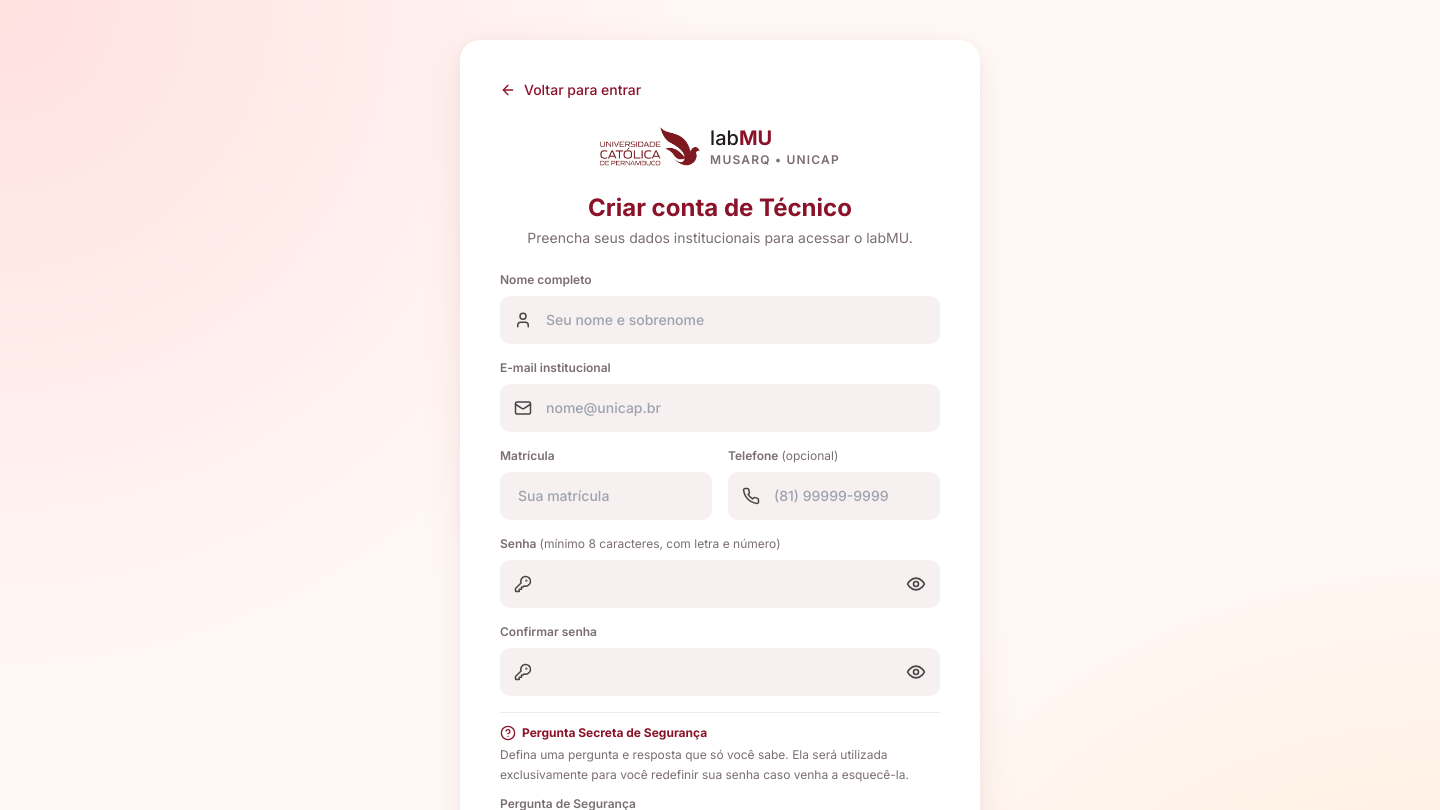
Test: RegisterPage: validação › exige letra e número na senha
In the field labelled "Nome completo": (720, 320) [500, 296, 940, 344], type "Maria Técnica"
In the field labelled "E-mail institucional": (720, 408) [500, 384, 940, 432], type "maria.tecnica@unicap.br"
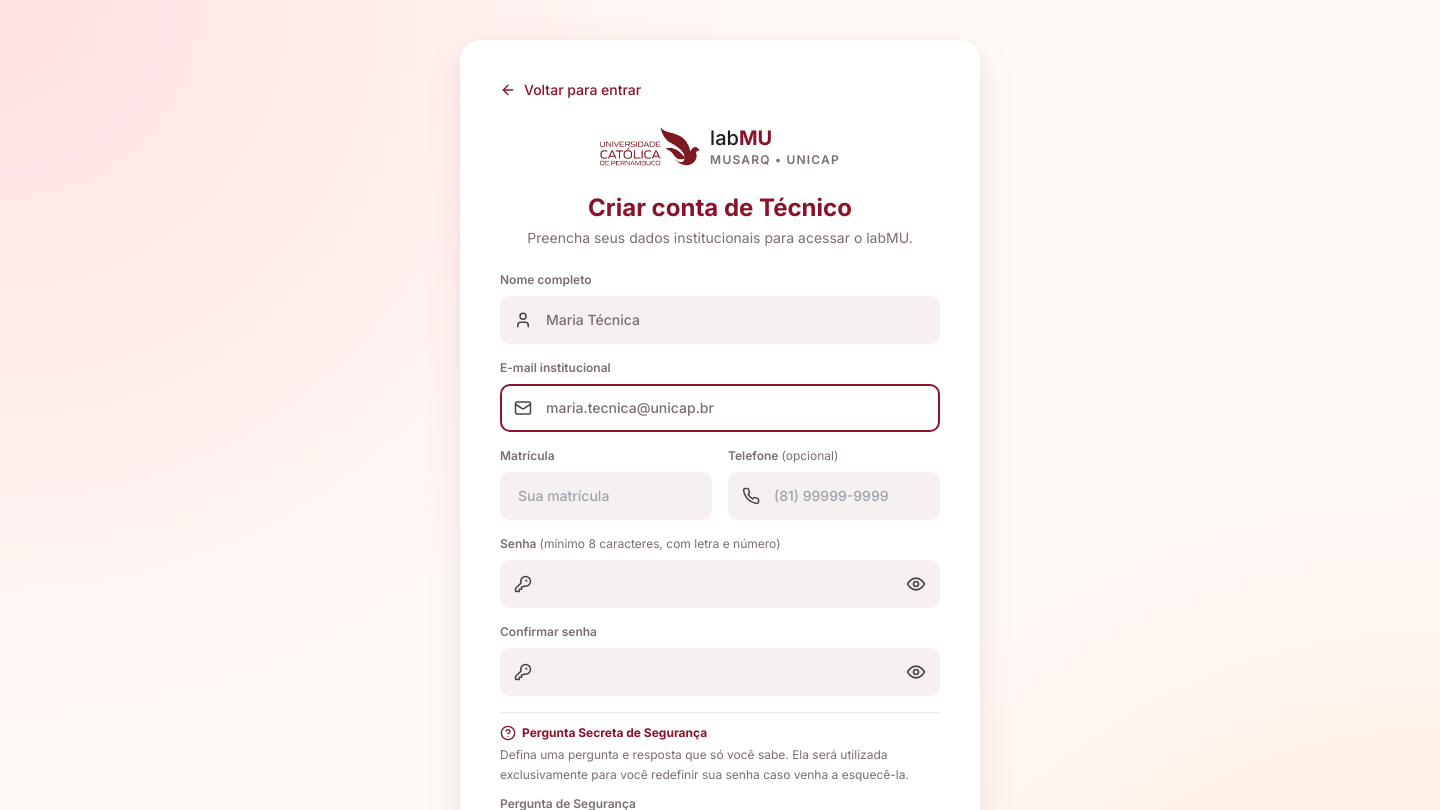
In the field labelled "Matrícula": (606, 496) [500, 472, 712, 520], type "2019123"
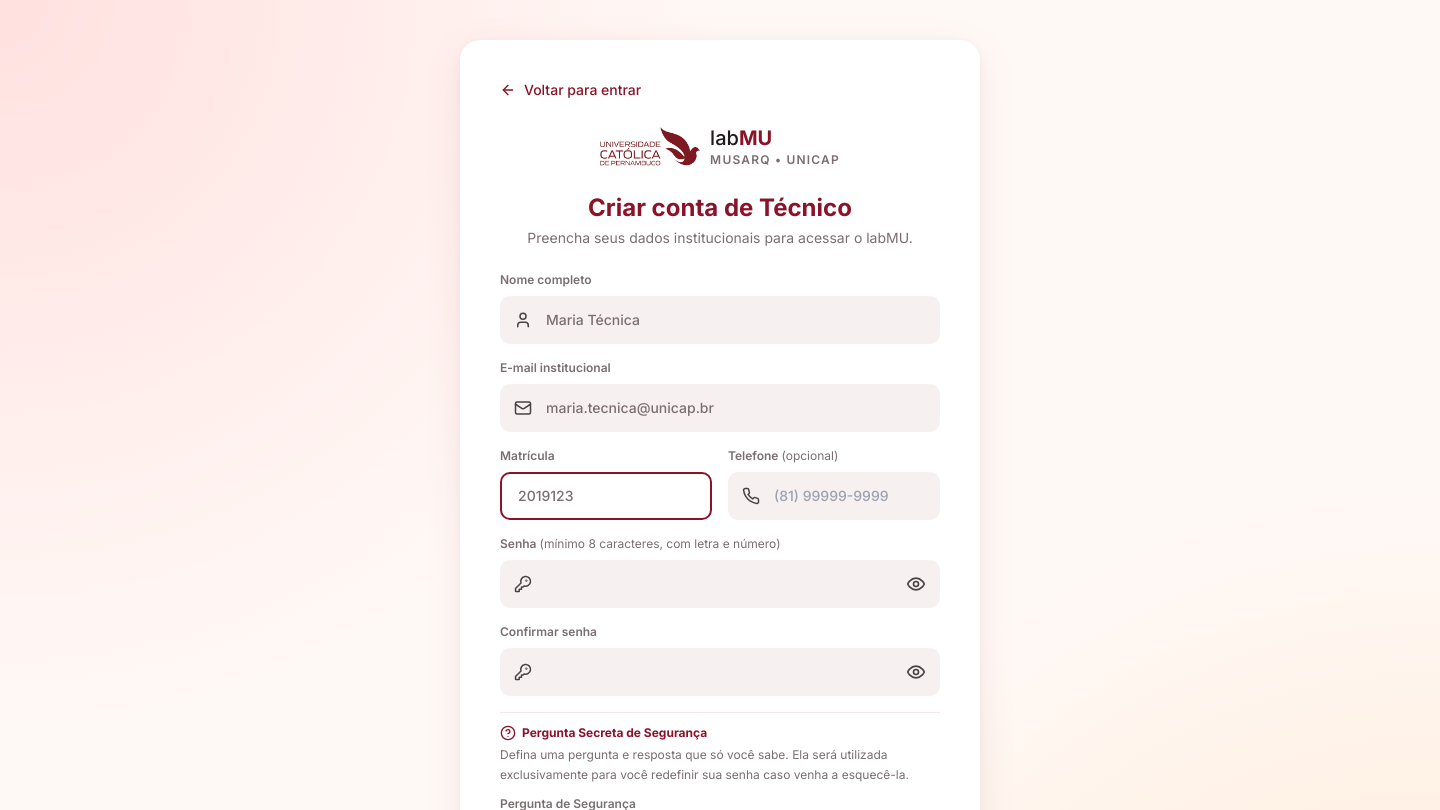
In the password field labelled "Senha (mínimo 8 caracteres, com letra e número)": (720, 584) [500, 560, 940, 608], type "somentetexto"
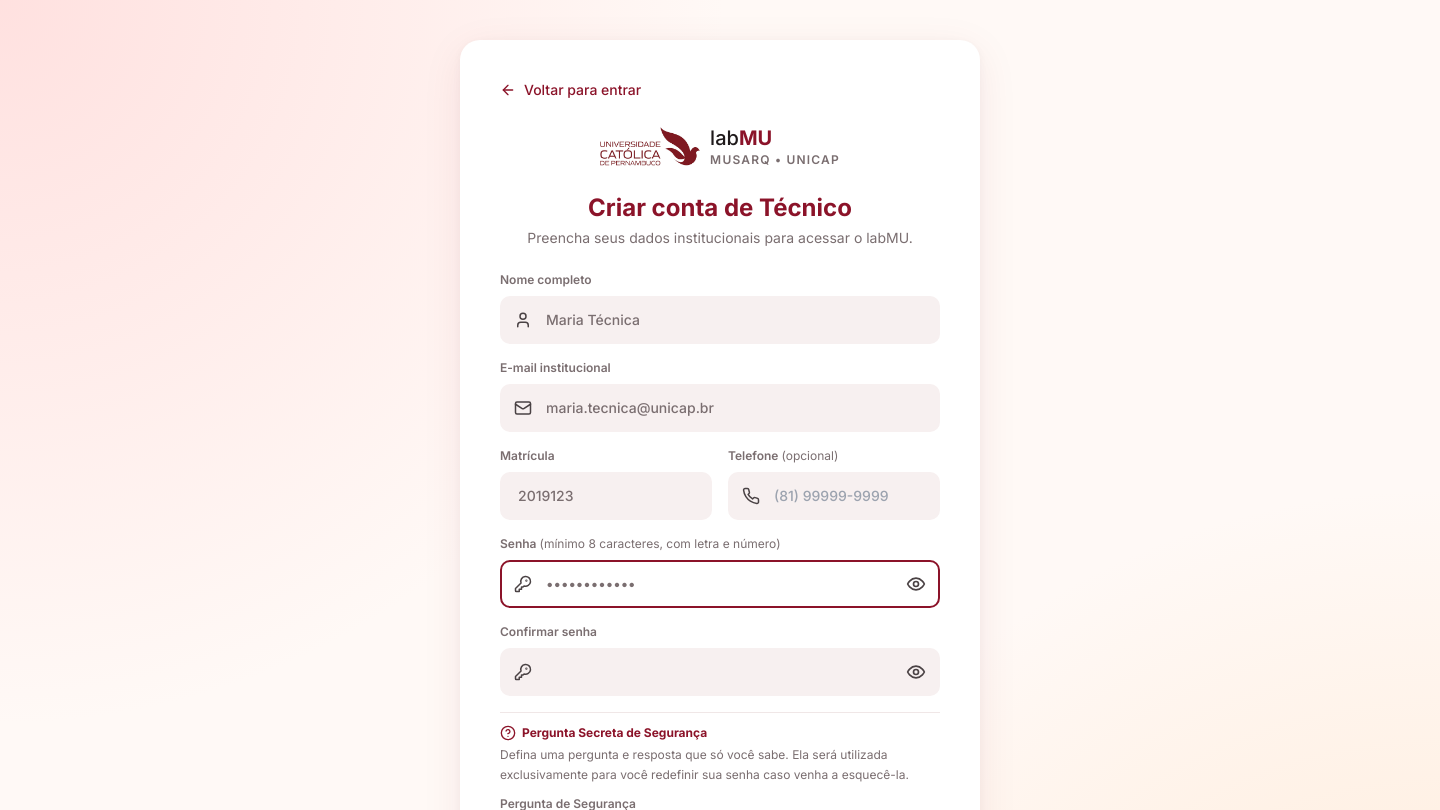
In the password field labelled "Confirmar senha": (720, 672) [500, 648, 940, 696], type "somentetexto"
(page scrolled)
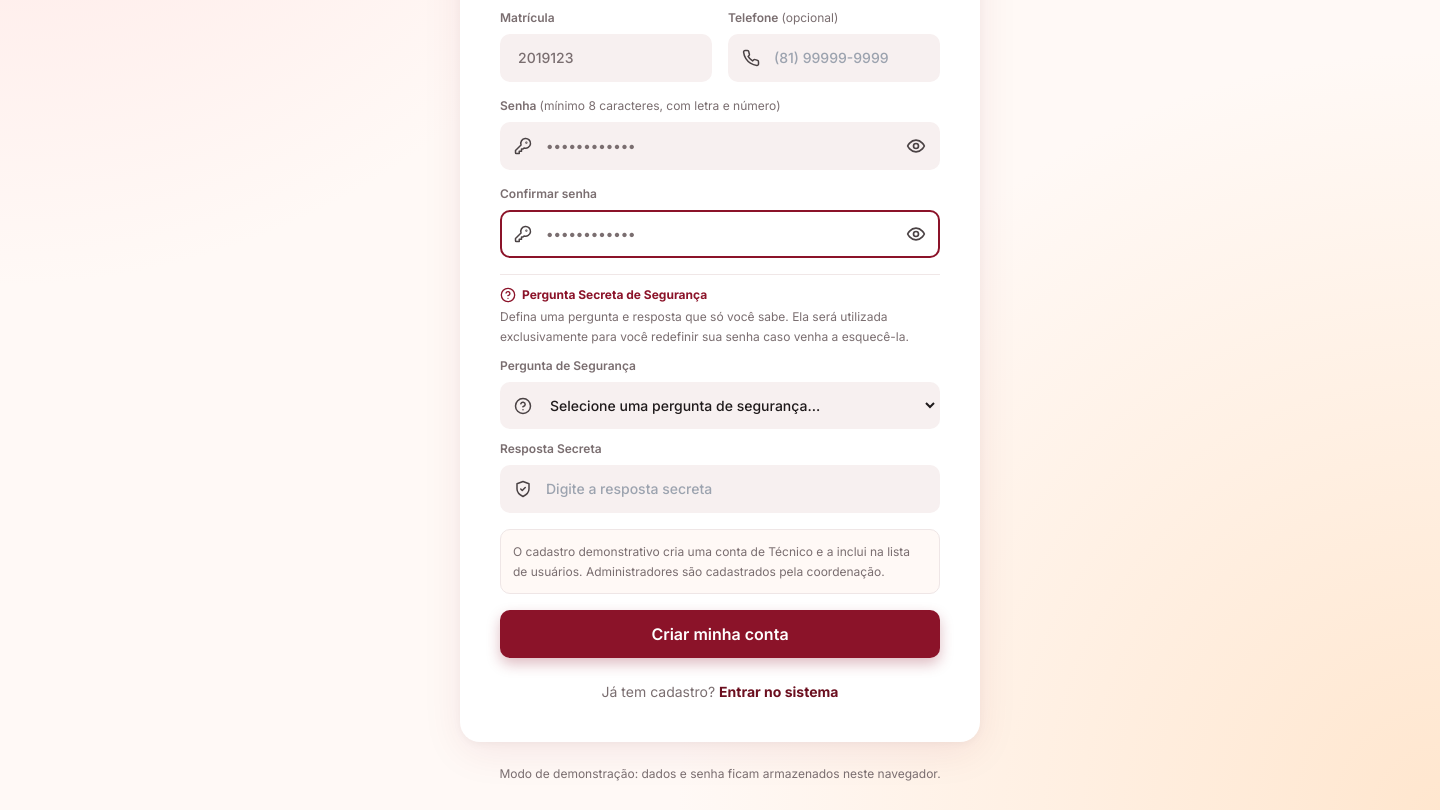
Select "Qual o nome do seu primeiro animal de estimação?" in the dropdown labelled "Pergunta de Segurança": (720, 406) [500, 382, 940, 429]
In the field labelled "Resposta Secreta": (720, 489) [500, 465, 940, 513], type "Totó"
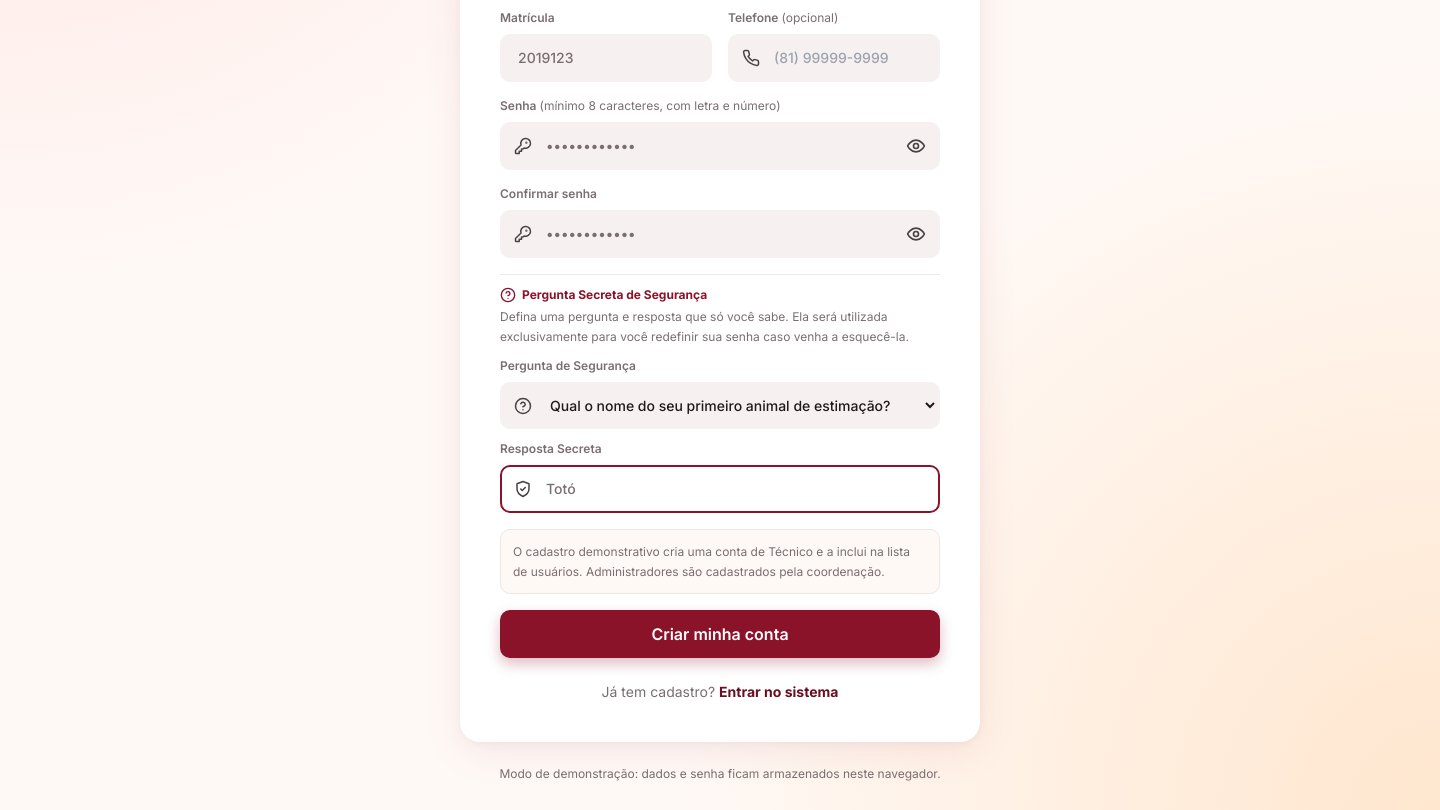
Click the button "Criar minha conta": click(720, 634) [500, 610, 940, 658]
(page scrolled)
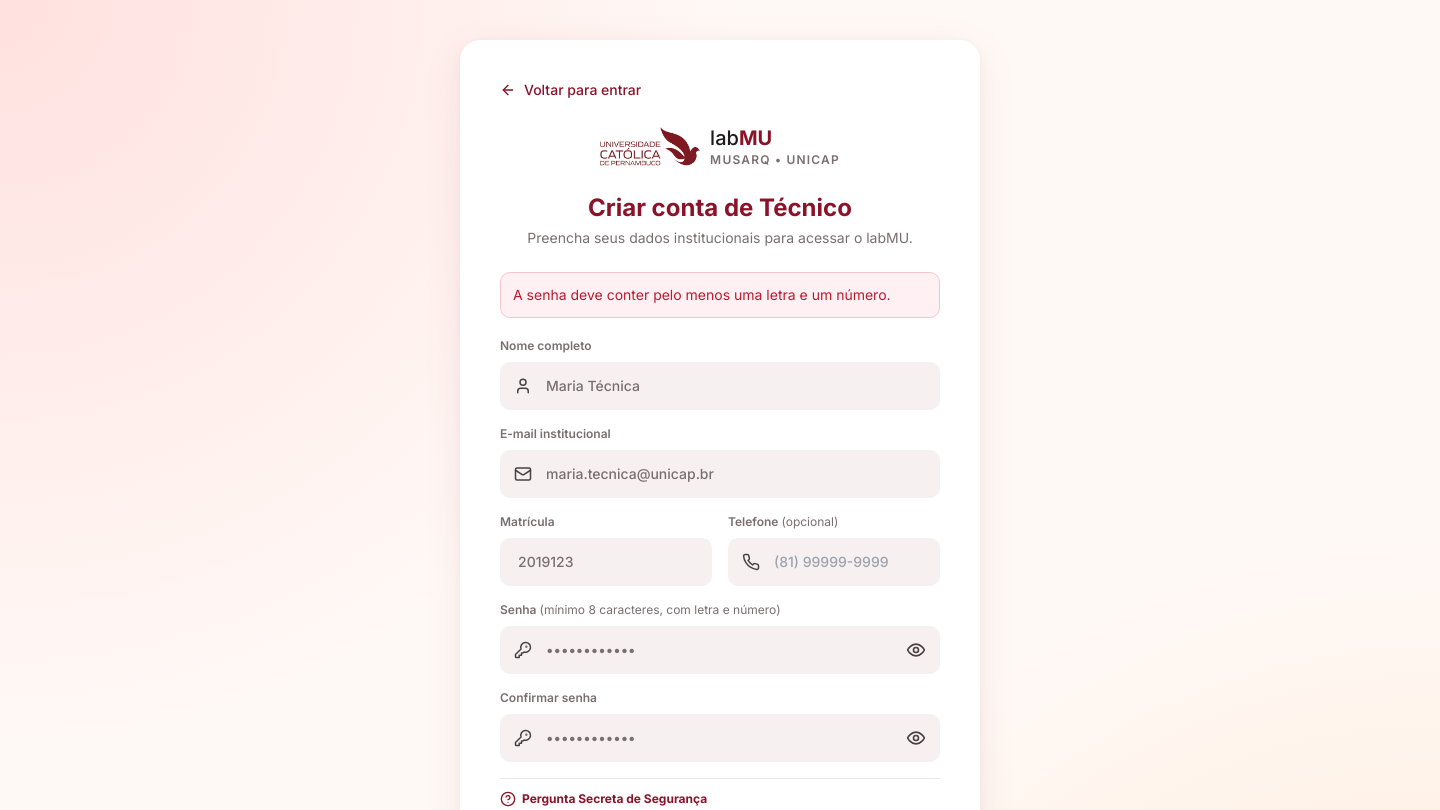
Now the text "A senha deve conter pelo menos uma letra e um número." is shown, box [500, 272, 940, 318]
